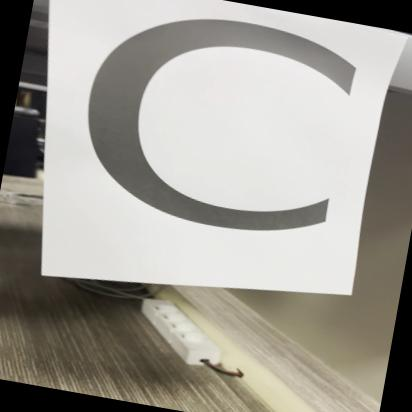seat: (18, 0, 393, 291)
